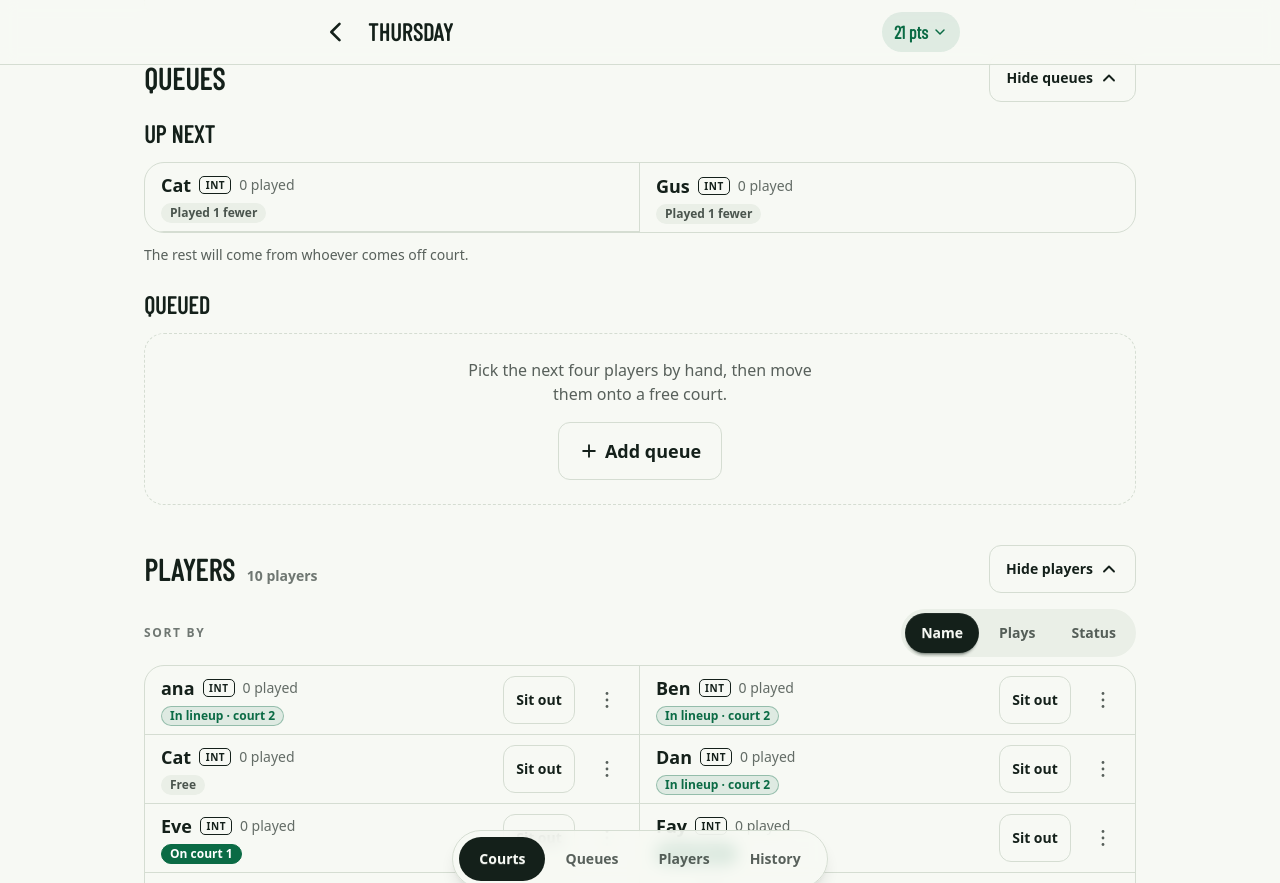
Test: QueuesSection › once a Match starts, lists the Queues under Queued, below Up next
The width and height of the screenshot is (1280, 883).
(page scrolled)
Expected: the element "Up next" is shown, [144, 118, 1136, 265]
Expected: the heading "Queued" is shown, [144, 290, 210, 319]
Click the button "Add queue". click: click(640, 451)
box: [558, 422, 722, 480]
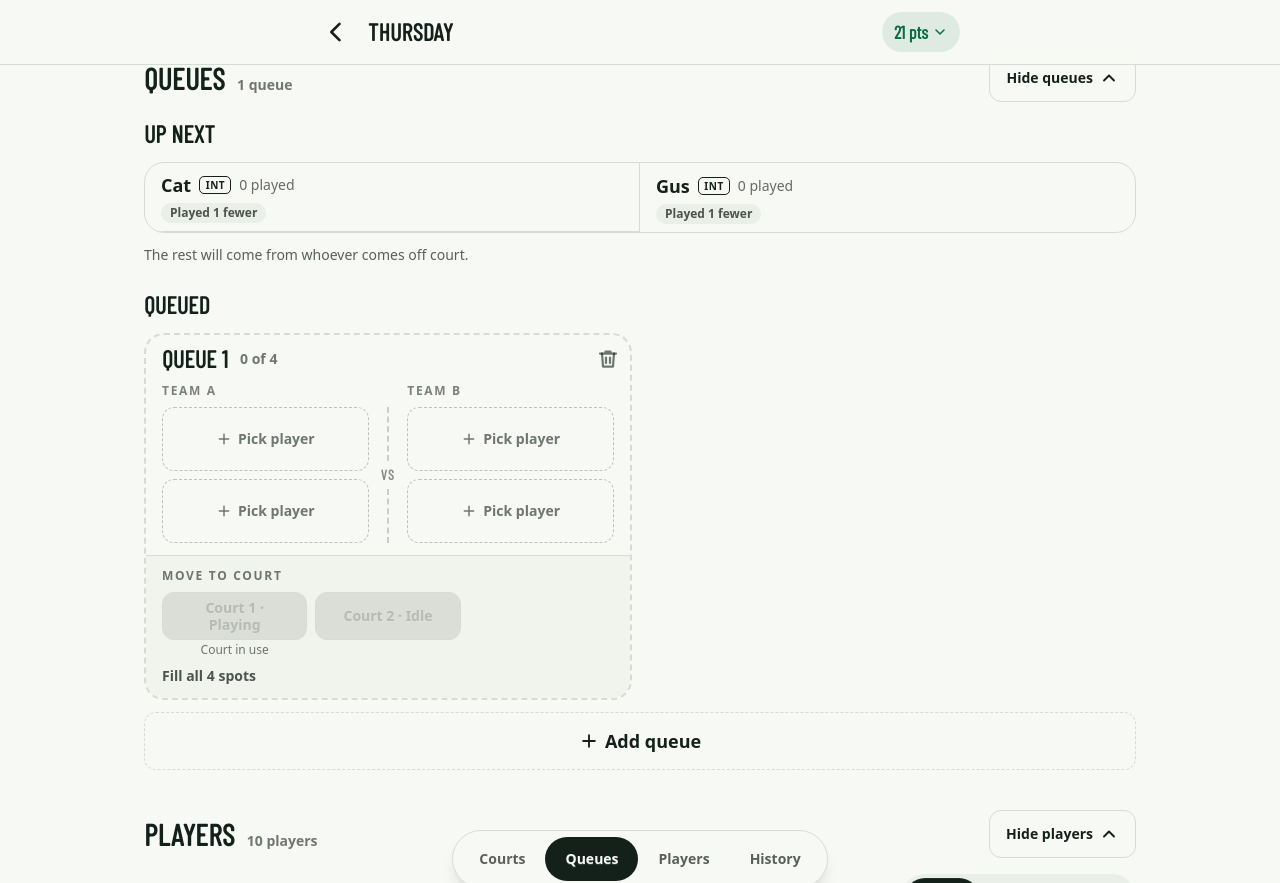
Expected: the button "Add queue" is shown, [144, 712, 1136, 770]
Result: the element "Queue 1" is shown at [144, 333, 632, 700]
